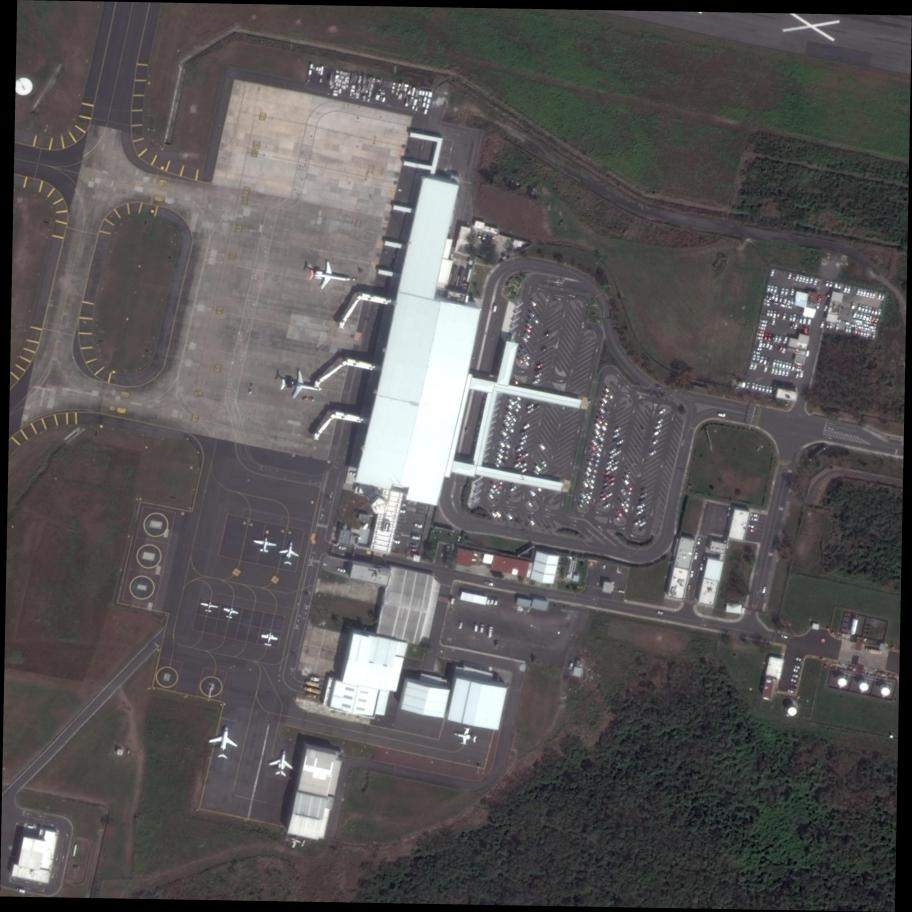large-vehicle: (305, 680, 321, 688), (304, 687, 321, 694)
plane: (279, 366, 326, 405), (308, 258, 354, 293), (206, 722, 242, 762), (267, 747, 296, 778), (452, 723, 480, 748), (277, 539, 302, 566), (252, 535, 278, 554), (287, 833, 307, 852), (259, 631, 279, 647), (199, 600, 219, 614), (221, 606, 240, 620)
small-vehicle: (524, 325, 533, 335), (594, 415, 603, 425), (487, 626, 494, 638), (653, 428, 662, 437), (635, 507, 644, 516), (598, 434, 606, 444), (602, 502, 612, 510), (635, 502, 645, 510), (616, 509, 624, 519), (525, 321, 533, 331), (597, 410, 605, 420), (588, 448, 596, 457), (654, 423, 663, 431), (528, 489, 537, 497), (605, 491, 614, 499), (623, 499, 631, 508), (594, 421, 602, 430), (523, 331, 531, 340), (521, 335, 529, 344), (506, 402, 514, 411), (528, 309, 536, 318), (500, 429, 508, 438), (505, 436, 513, 445), (538, 442, 546, 451), (518, 439, 527, 447), (534, 464, 542, 473), (591, 466, 599, 474), (578, 496, 586, 504), (613, 426, 621, 434), (608, 452, 616, 460), (614, 515, 622, 523), (600, 396, 608, 404), (520, 434, 528, 442), (498, 440, 506, 448), (592, 460, 599, 469), (586, 458, 593, 467), (590, 443, 597, 452), (657, 408, 666, 415), (648, 450, 657, 457), (607, 476, 616, 483), (506, 512, 513, 521), (512, 378, 519, 387), (532, 378, 541, 385), (535, 362, 544, 369), (507, 410, 514, 419), (503, 418, 510, 427), (501, 458, 508, 467), (602, 418, 609, 427), (522, 423, 531, 430), (541, 460, 548, 469), (411, 535, 421, 541), (594, 450, 602, 457), (585, 465, 592, 473), (588, 476, 595, 484), (582, 480, 589, 488), (588, 482, 595, 490), (587, 487, 594, 495), (585, 492, 592, 500), (580, 491, 587, 499), (577, 501, 584, 509), (605, 464, 613, 471), (611, 438, 619, 445), (616, 438, 624, 445), (608, 448, 616, 455), (606, 458, 614, 465), (655, 419, 663, 426), (584, 497, 591, 505), (496, 482, 503, 490), (509, 486, 517, 493), (488, 486, 495, 494), (495, 510, 502, 518), (638, 520, 646, 527), (625, 489, 632, 497), (599, 491, 607, 498), (599, 495, 607, 502), (625, 467, 632, 475), (620, 488, 627, 496), (622, 505, 629, 513), (639, 492, 647, 499), (599, 428, 606, 436), (600, 424, 607, 432), (524, 353, 531, 361), (517, 356, 524, 364), (534, 372, 542, 379), (508, 398, 515, 406), (504, 414, 511, 422), (530, 299, 537, 307), (607, 392, 614, 400), (495, 456, 502, 464), (522, 452, 530, 459), (515, 456, 523, 463), (497, 446, 504, 454), (599, 400, 606, 408), (496, 451, 503, 459), (504, 442, 511, 450), (526, 403, 534, 410), (533, 403, 541, 410), (520, 429, 528, 436), (515, 446, 523, 453), (514, 461, 522, 468), (520, 462, 528, 469), (540, 345, 548, 352), (533, 317, 540, 325), (611, 465, 620, 471), (693, 552, 699, 561), (490, 480, 496, 489), (515, 400, 521, 409), (414, 523, 423, 529), (604, 407, 610, 416), (791, 313, 797, 322), (806, 317, 812, 326), (757, 339, 763, 348), (569, 661, 574, 671), (604, 469, 611, 476), (591, 440, 598, 447), (612, 432, 619, 439), (652, 439, 659, 446), (615, 449, 622, 456), (602, 480, 609, 487), (627, 484, 634, 491), (624, 495, 631, 502), (526, 315, 533, 322), (492, 461, 499, 468), (655, 384, 662, 391), (502, 424, 509, 431), (532, 469, 539, 476), (640, 487, 647, 494), (498, 480, 505, 487), (594, 455, 600, 463), (588, 454, 594, 462), (590, 471, 596, 479), (584, 475, 590, 483), (596, 445, 602, 453), (488, 492, 494, 500), (491, 510, 497, 518), (618, 589, 626, 595), (624, 472, 630, 480), (638, 498, 646, 504), (594, 428, 600, 436), (521, 354, 527, 362), (338, 545, 346, 551), (508, 426, 514, 434), (502, 452, 508, 460), (503, 446, 509, 454), (599, 407, 605, 415), (500, 435, 506, 443), (778, 302, 786, 308), (786, 298, 792, 306), (834, 324, 840, 332), (828, 322, 834, 330), (784, 361, 790, 369), (795, 364, 803, 370), (602, 485, 610, 491), (783, 336, 789, 344), (787, 272, 793, 280), (795, 657, 803, 663), (718, 412, 726, 418), (858, 312, 864, 320), (833, 282, 839, 290), (846, 286, 852, 294), (855, 288, 861, 296), (486, 596, 491, 605), (494, 597, 499, 606), (337, 568, 346, 573), (772, 310, 777, 319), (775, 310, 780, 319), (795, 314, 800, 323), (798, 315, 803, 324), (802, 316, 807, 325), (759, 319, 768, 324), (784, 288, 789, 297), (780, 287, 785, 296), (770, 292, 775, 301), (763, 356, 768, 365), (780, 634, 789, 639), (787, 689, 796, 694), (750, 513, 759, 518), (747, 524, 756, 529), (862, 289, 867, 298), (868, 290, 873, 299), (870, 307, 875, 316), (864, 305, 869, 314), (584, 470, 590, 477), (612, 460, 619, 466), (616, 444, 623, 450), (495, 489, 501, 496), (527, 500, 533, 507), (623, 478, 629, 485), (619, 500, 625, 507), (525, 361, 531, 368), (511, 417, 518, 423), (604, 387, 610, 394), (603, 391, 609, 398), (527, 408, 534, 414), (521, 468, 528, 474), (782, 297, 788, 304), (609, 481, 616, 487), (808, 277, 814, 284), (850, 303, 856, 310), (699, 563, 704, 571), (446, 545, 451, 553), (483, 582, 493, 586), (482, 233, 487, 241), (393, 539, 401, 544), (409, 543, 417, 548), (409, 547, 417, 552), (459, 621, 464, 629), (785, 304, 793, 309), (766, 309, 771, 317), (779, 295, 784, 303), (856, 328, 861, 336), (758, 326, 766, 331), (756, 332, 764, 337), (778, 360, 783, 368), (781, 361, 786, 369), (791, 363, 796, 371), (775, 360, 780, 368), (771, 359, 776, 367), (766, 358, 771, 366), (761, 340, 766, 348), (770, 334, 775, 342), (794, 323, 799, 331), (769, 342, 774, 350), (778, 344, 783, 352), (751, 354, 756, 362), (755, 355, 760, 363), (759, 356, 764, 364), (749, 362, 754, 370), (763, 365, 768, 373), (784, 369, 789, 377), (770, 269, 775, 277), (795, 274, 800, 282), (798, 274, 803, 282), (791, 678, 799, 683), (480, 624, 484, 634), (792, 674, 800, 679), (762, 586, 767, 594), (745, 382, 750, 390), (813, 278, 818, 286), (855, 311, 860, 319), (862, 313, 867, 321), (865, 290, 870, 298), (843, 285, 848, 293), (861, 305, 866, 313), (871, 291, 876, 299), (880, 293, 885, 301), (867, 306, 872, 314), (690, 570, 694, 579), (697, 537, 701, 546), (513, 406, 519, 412), (782, 312, 786, 321), (770, 285, 774, 294), (767, 284, 771, 293), (474, 623, 478, 632), (863, 321, 872, 325), (477, 233, 482, 240), (510, 420, 515, 427), (398, 509, 405, 514), (764, 298, 771, 303), (763, 302, 770, 307), (859, 329, 864, 336), (774, 295, 779, 302), (787, 363, 792, 370), (794, 368, 801, 373), (520, 345, 525, 352), (765, 341, 770, 348), (850, 327, 855, 334), (774, 368, 779, 375), (781, 369, 786, 376), (799, 371, 804, 378), (791, 273, 796, 280), (801, 276, 806, 283), (804, 277, 809, 284), (862, 323, 869, 328), (865, 314, 870, 321), (868, 315, 873, 322), (871, 316, 876, 323), (874, 317, 879, 324), (869, 325, 876, 330), (850, 323, 857, 328), (865, 331, 870, 338), (862, 330, 867, 337), (852, 311, 857, 318), (825, 280, 830, 287), (837, 284, 842, 291), (859, 289, 864, 296), (877, 293, 882, 300), (490, 597, 494, 605), (771, 318, 775, 326), (759, 323, 767, 327), (817, 295, 821, 303), (826, 321, 830, 329), (824, 304, 828, 312), (790, 288, 794, 296), (773, 286, 777, 294), (657, 611, 665, 615), (687, 585, 691, 593), (764, 333, 768, 341), (767, 333, 771, 341), (774, 335, 778, 343), (753, 351, 761, 355), (854, 327, 858, 335), (848, 326, 852, 334), (769, 386, 773, 394), (773, 384, 777, 392), (794, 665, 802, 669), (793, 669, 801, 673), (751, 382, 755, 390), (750, 518, 758, 522), (530, 519, 534, 526), (757, 329, 764, 333), (790, 298, 794, 305), (769, 310, 773, 317), (820, 321, 824, 328), (816, 303, 820, 310), (768, 293, 772, 300), (756, 336, 763, 340), (778, 336, 782, 343), (782, 346, 786, 353), (765, 386, 769, 393), (753, 363, 757, 370), (771, 367, 775, 374), (778, 368, 782, 375), (795, 372, 799, 379), (762, 385, 766, 392), (758, 385, 762, 392), (754, 384, 758, 391), (791, 683, 798, 687), (855, 322, 862, 326), (843, 321, 850, 325), (856, 325, 863, 329), (863, 327, 870, 331), (872, 332, 876, 339), (858, 304, 862, 311), (829, 281, 833, 288), (874, 308, 878, 315), (788, 315, 792, 321), (765, 293, 769, 299), (747, 528, 753, 532), (870, 328, 876, 332), (845, 326, 848, 333), (878, 309, 881, 316), (497, 675, 500, 681), (754, 348, 762, 350)
